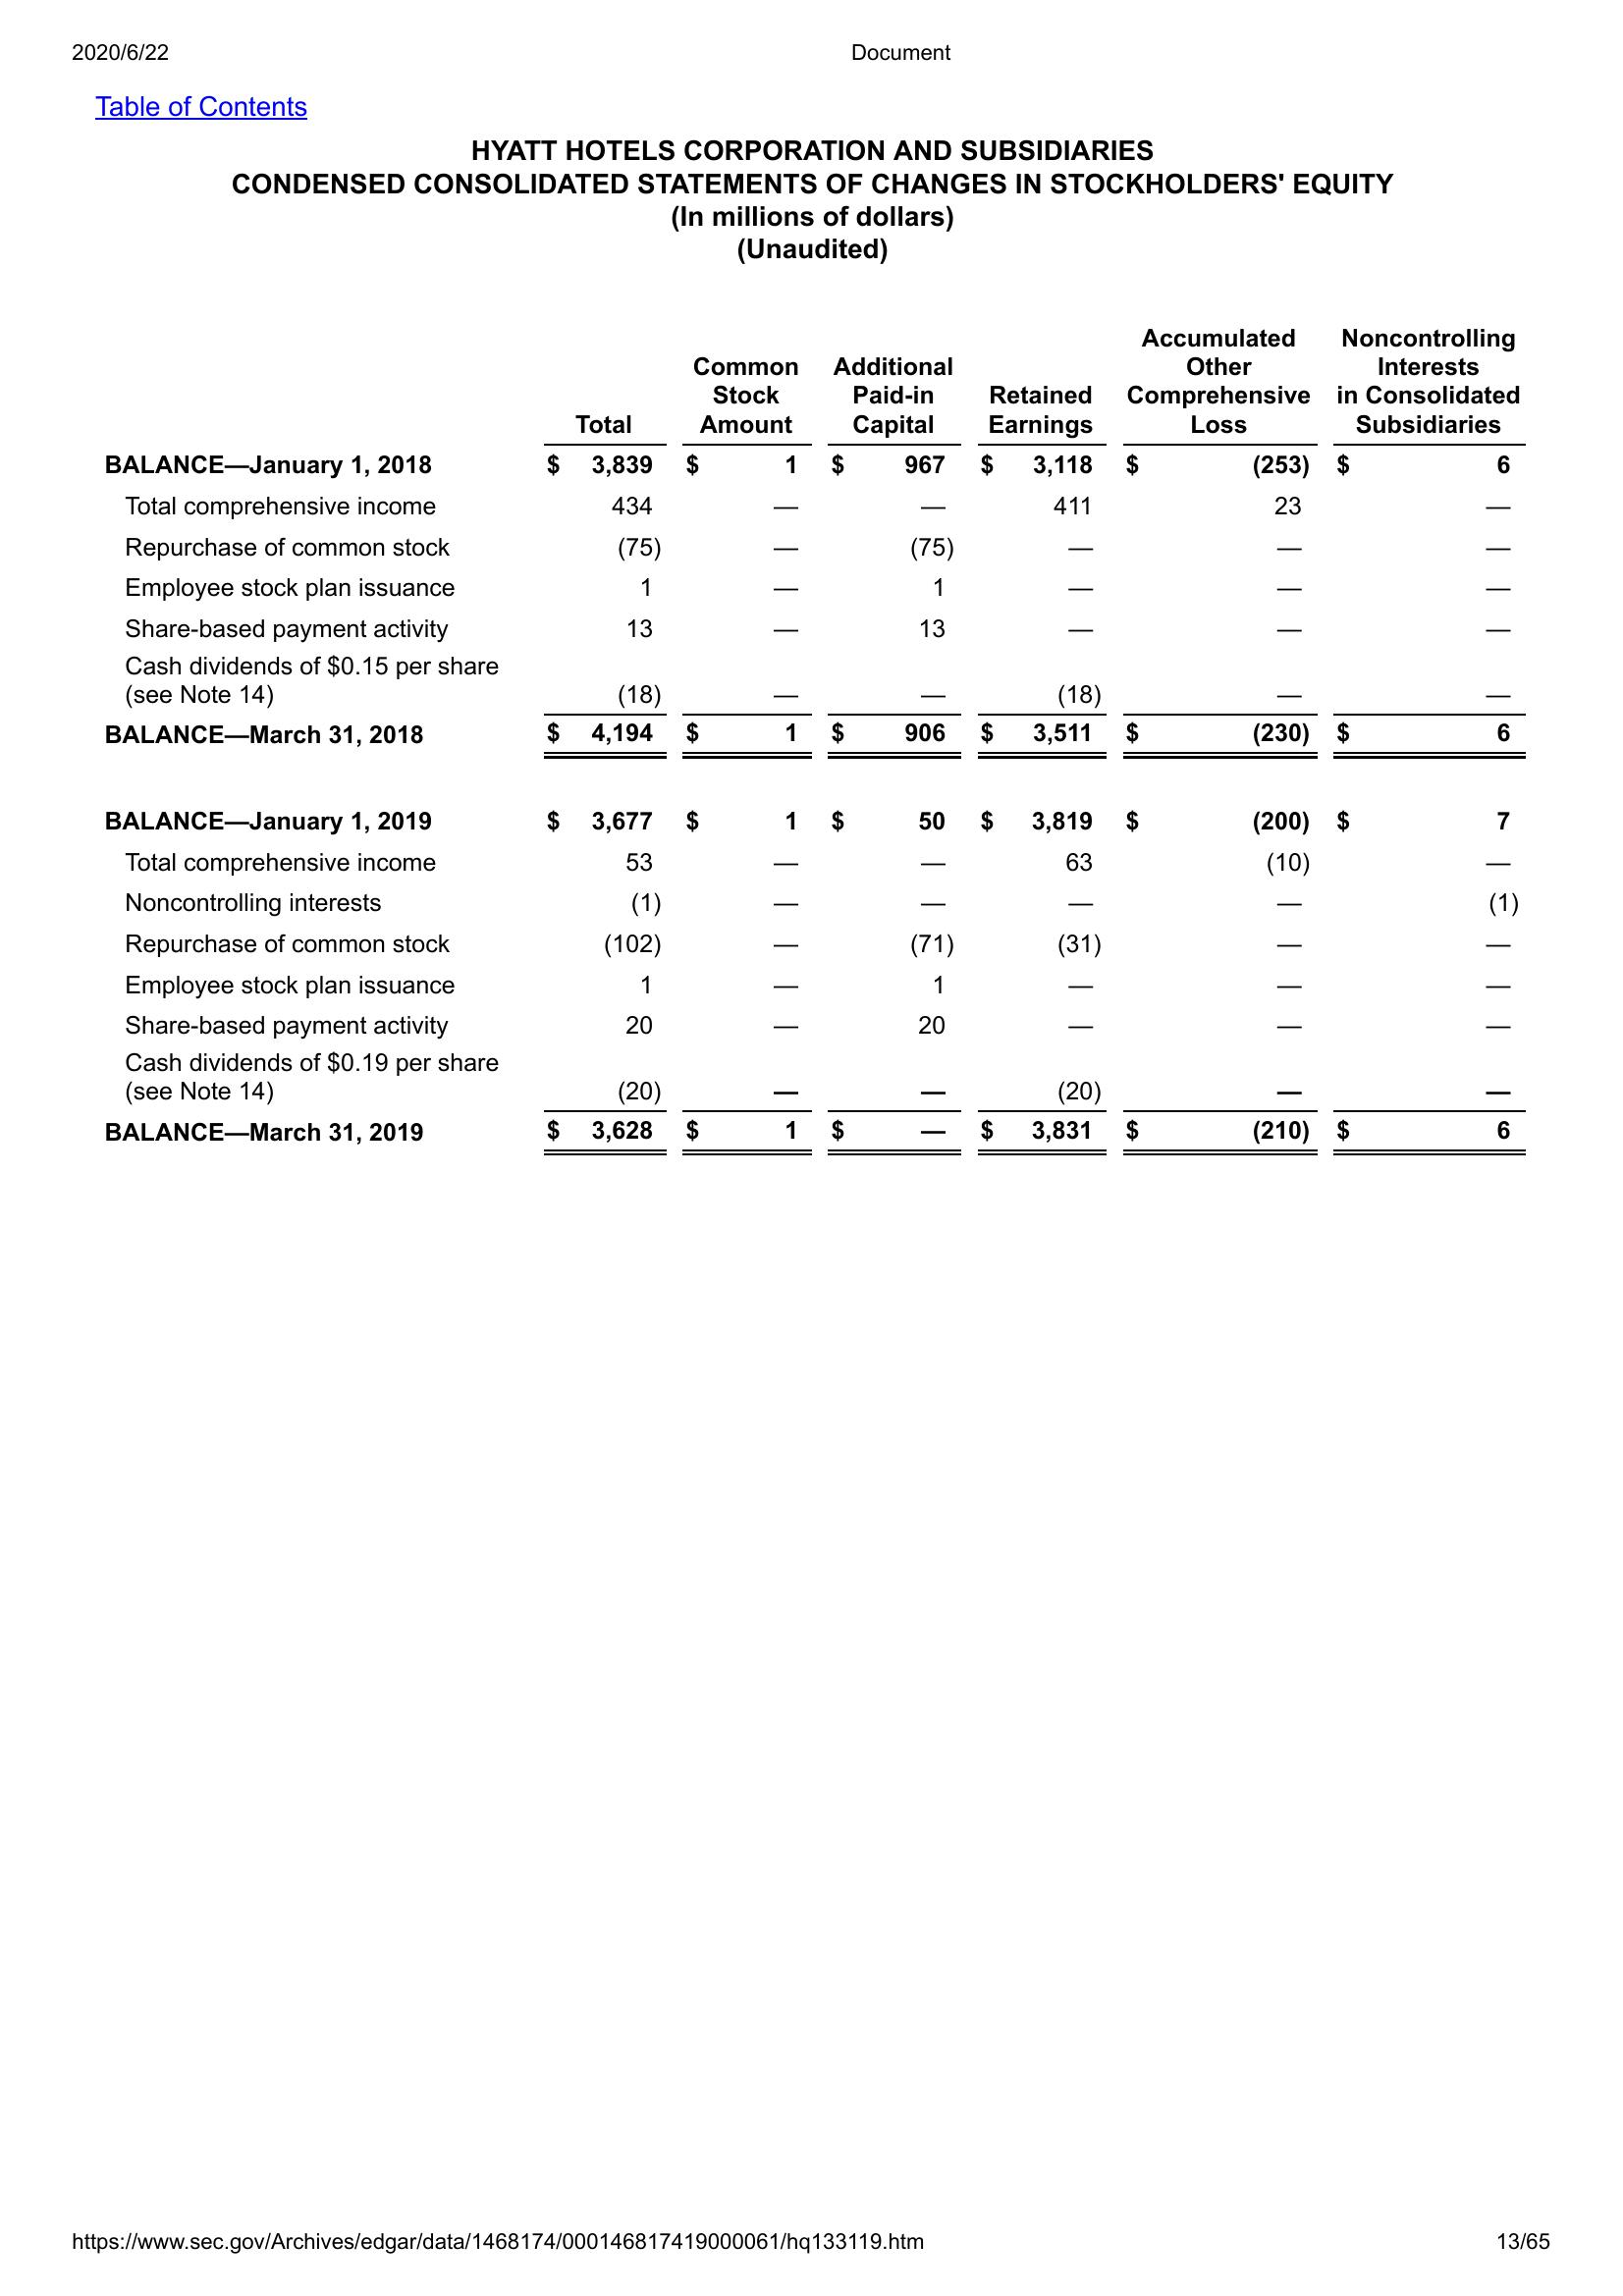table: (90, 321, 1533, 1162)
